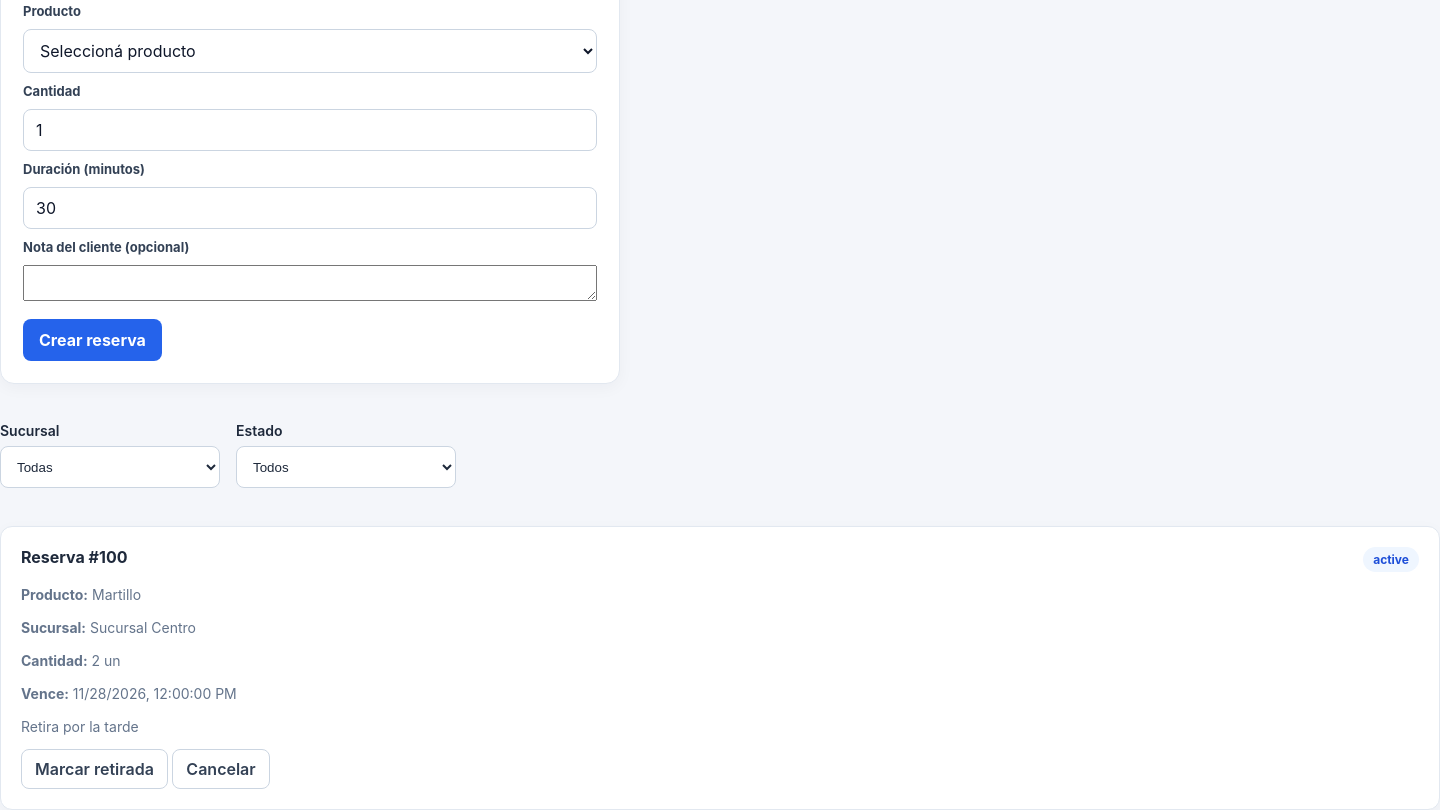
Test case: Integración de Reservations › registra el retiro de una reserva activa
(page scrolled)
Expected: the heading "Reserva #100" is shown, top-left (21, 547), bottom-right (128, 567)
Click the button "Marcar retirada" at (94, 769), box top-left (21, 749), bottom-right (168, 789)
(page scrolled)
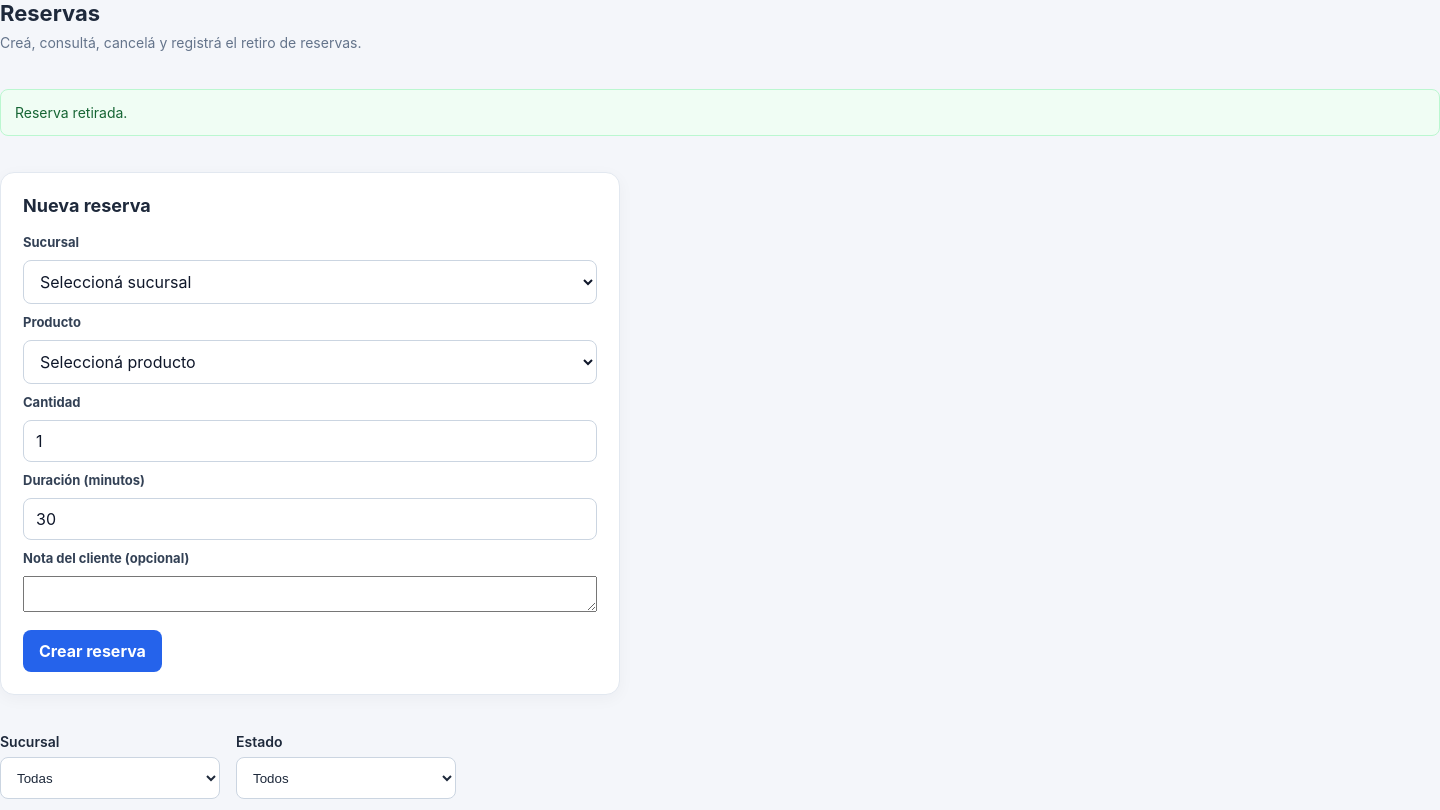
Expected: the text "Reserva retirada." is shown, top-left (0, 89), bottom-right (1439, 136)
